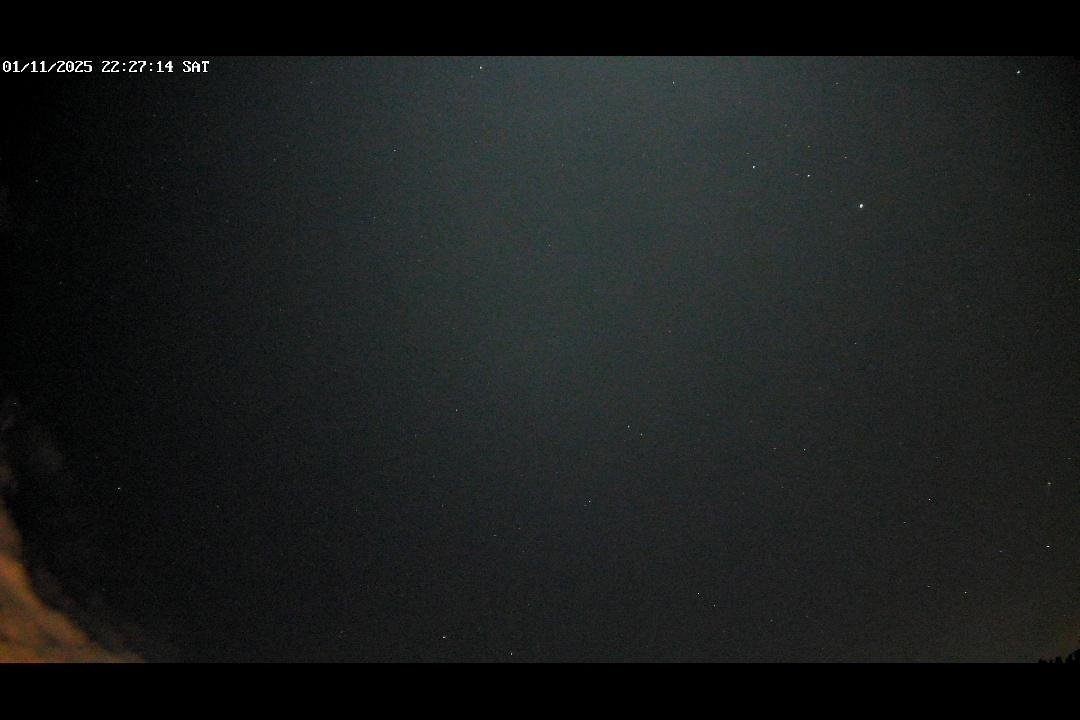Plane: (1040, 480, 1056, 502)
